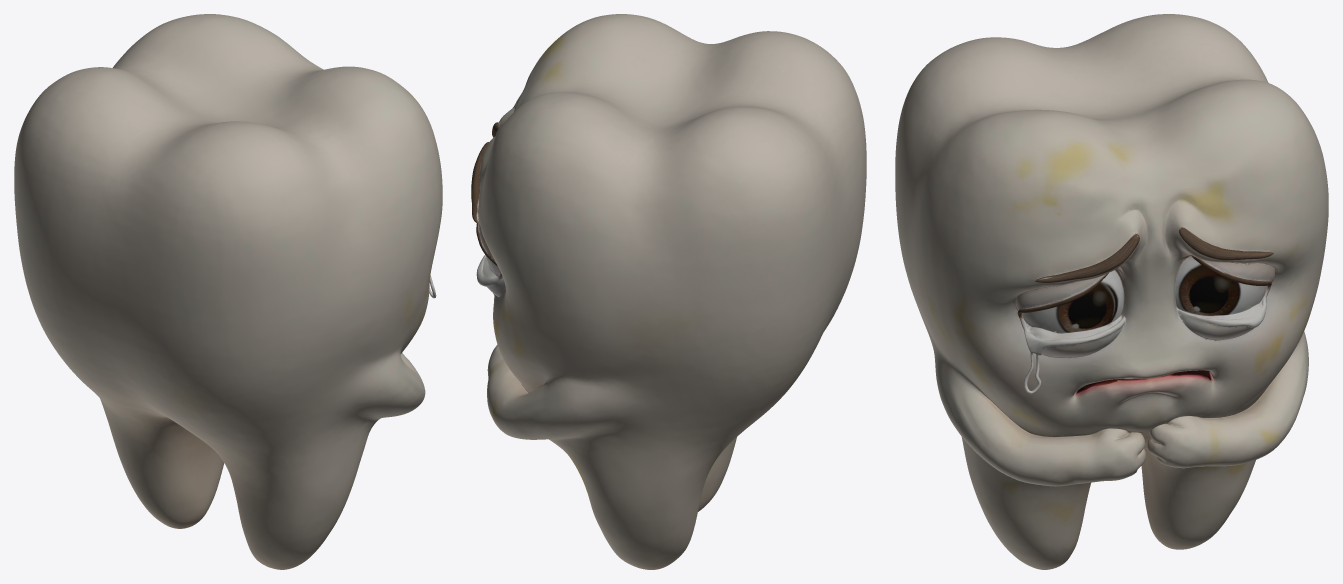
File: glbData_1780604388414_0csih.glb
3 views of the same model, side by side, from view 1: azimuth 30°, elevation 25°; view 2: azimuth 150°, elevation 25°; view 3: azimuth 270°, elevation 25° (orthographic). The views are drawn at different scales.
Parts seen in each view (by area): view 1: tripo_node_5bb9a5a6-b635-43c4-81f7-3564be53f57e; view 2: tripo_node_5bb9a5a6-b635-43c4-81f7-3564be53f57e; view 3: tripo_node_5bb9a5a6-b635-43c4-81f7-3564be53f57e.
Part boxes in pixels (left/top/right/bottom): tripo_node_5bb9a5a6-b635-43c4-81f7-3564be53f57e: left=14, top=14, right=442, bottom=569; tripo_node_5bb9a5a6-b635-43c4-81f7-3564be53f57e: left=471, top=14, right=866, bottom=569; tripo_node_5bb9a5a6-b635-43c4-81f7-3564be53f57e: left=895, top=14, right=1328, bottom=569.
Size of the model in its own units: 0.0772 by 0.1 by 0.0805.
1 material, 1 textured.
